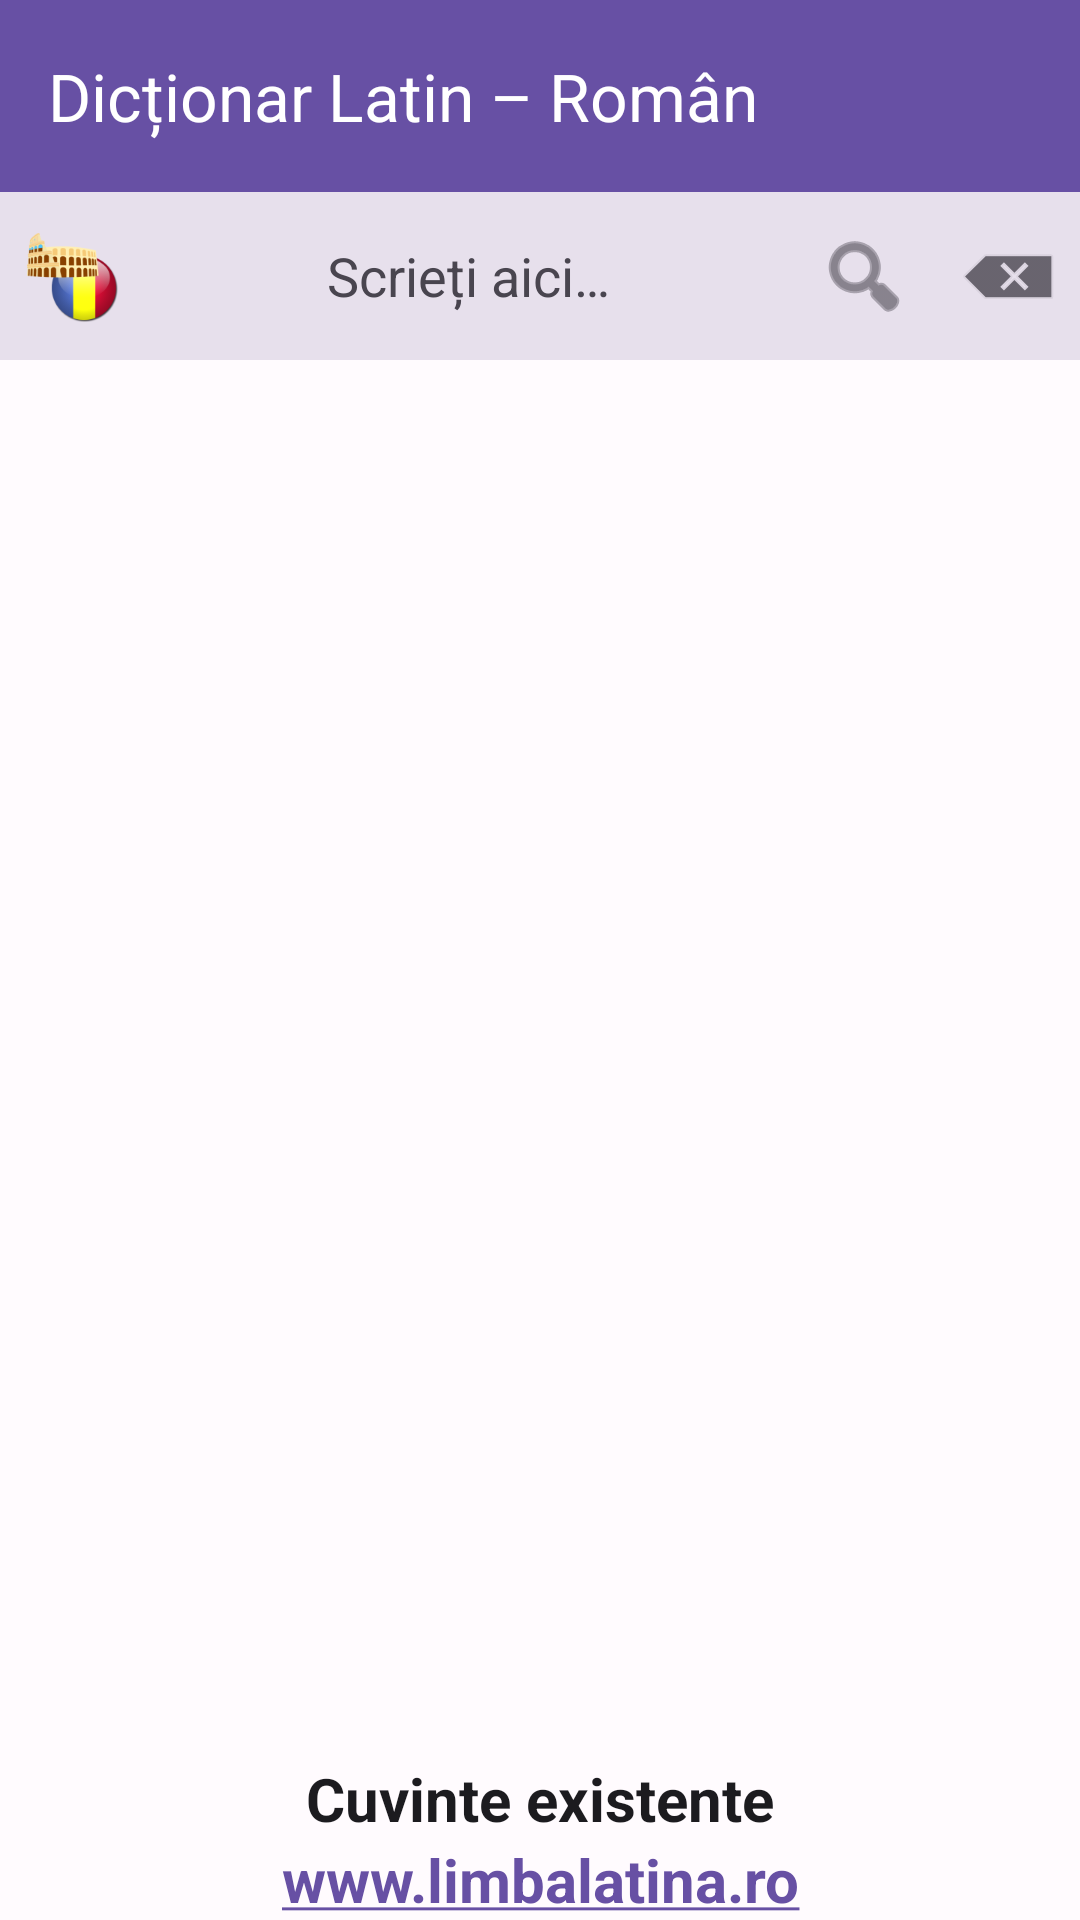

Locate icon controls on the screen. Image size 1080 x 1920, boxes as BBox(x1, y1, x2, y2).
Căutare: BBox(829, 241, 899, 312)
Golire: BBox(965, 256, 1052, 298)
Inversează limbile: BBox(27, 233, 118, 322)
